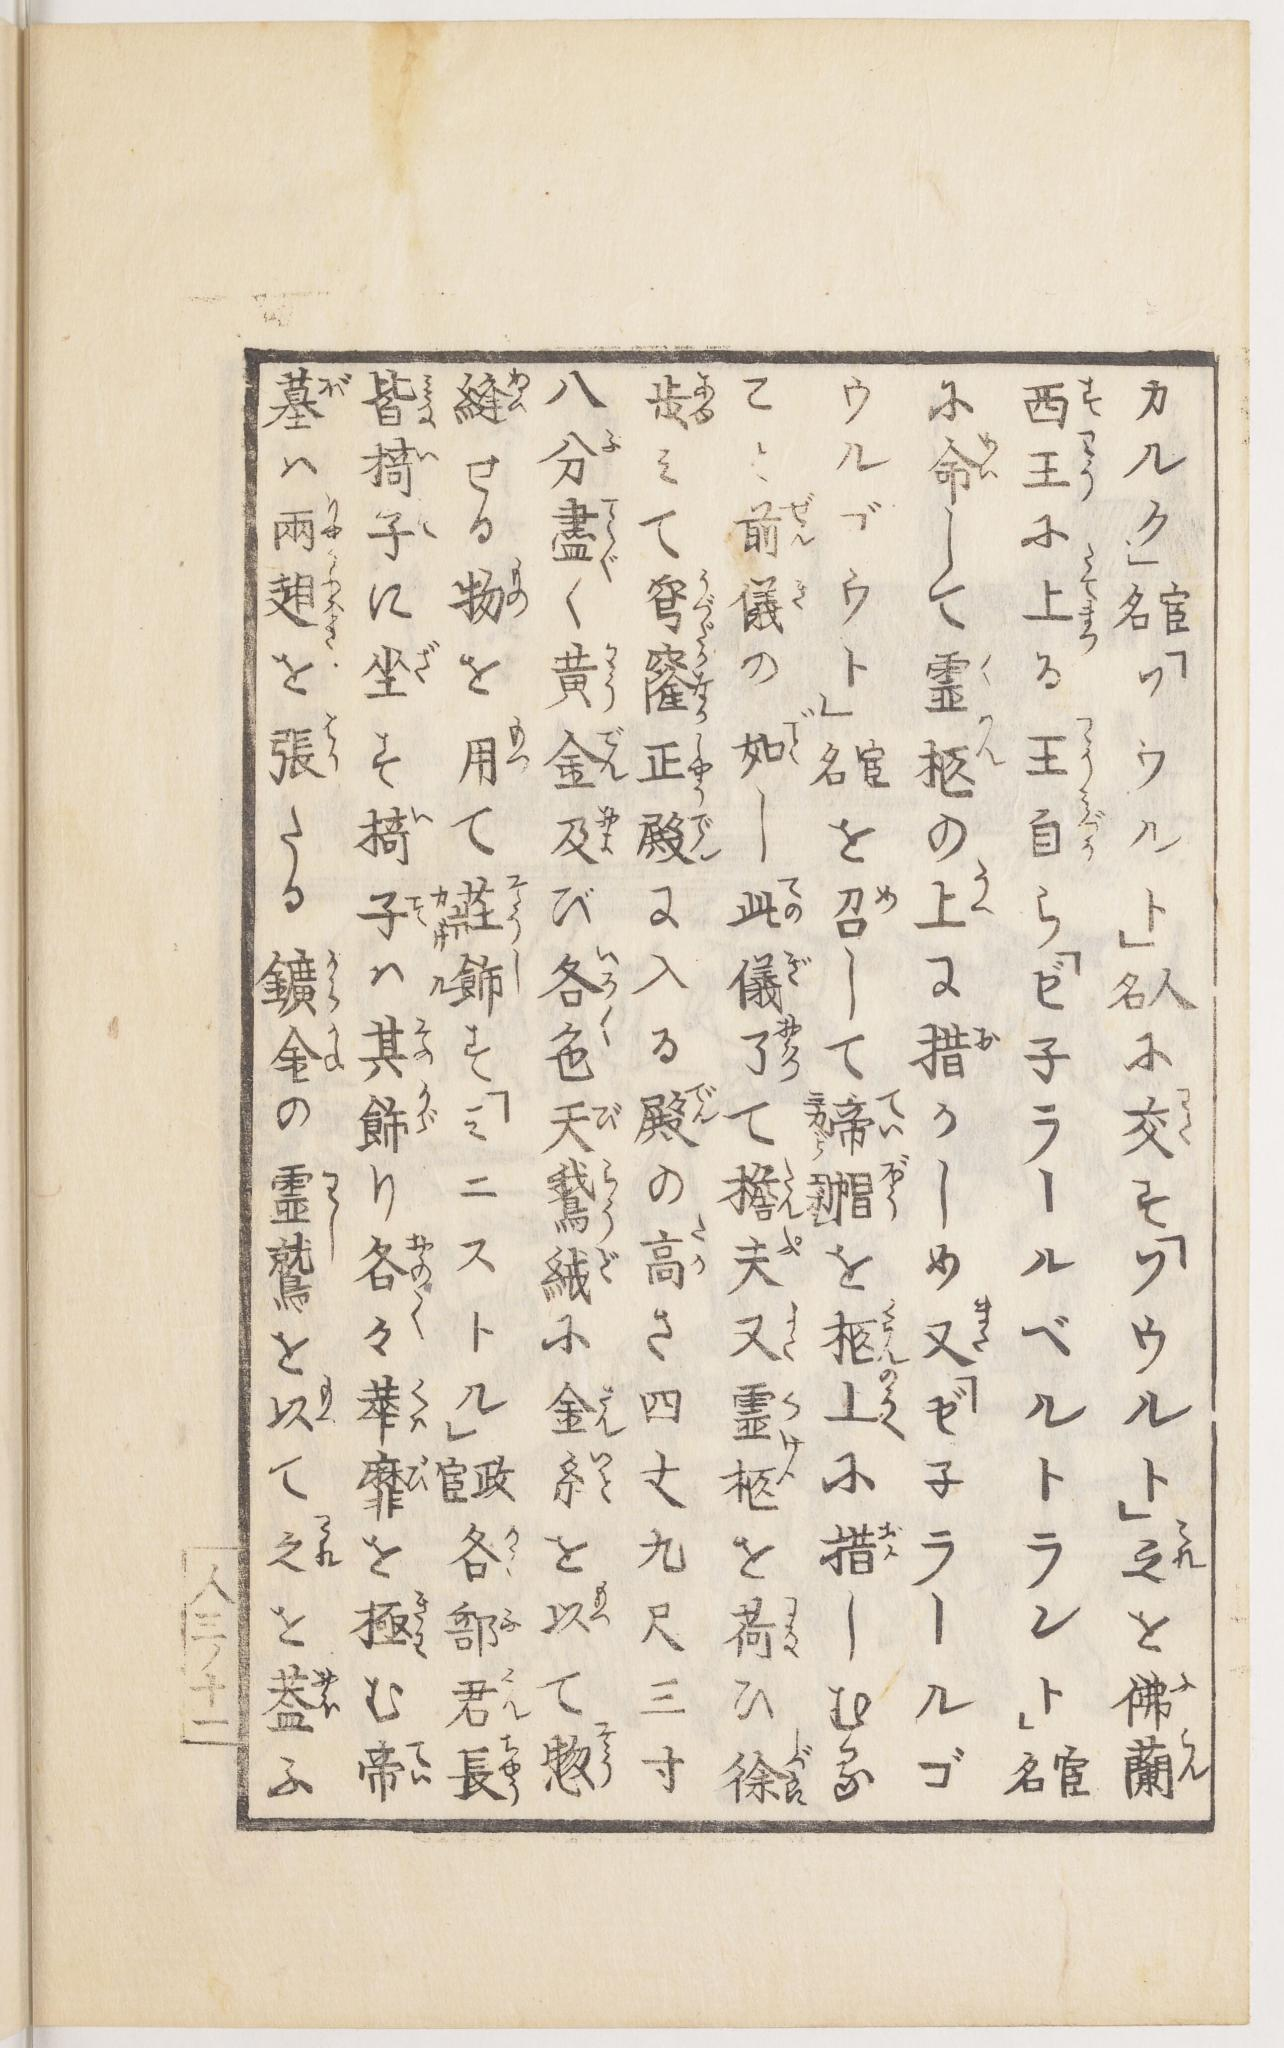MainZone-Character: (1012, 544, 1109, 657), (266, 546, 352, 654), (803, 1150, 914, 1232), (720, 1721, 817, 1813), (913, 710, 1007, 800), (260, 358, 358, 442), (713, 1430, 805, 1514), (1118, 1729, 1217, 1804), (354, 1078, 442, 1161), (534, 1156, 624, 1238), (630, 1076, 722, 1155), (546, 491, 627, 577), (448, 864, 534, 945), (726, 704, 820, 778), (447, 1732, 527, 1817), (1013, 424, 1102, 501), (732, 489, 830, 559), (259, 1656, 340, 1739), (1120, 1084, 1204, 1164), (907, 1013, 1001, 1084), (820, 1295, 914, 1366), (925, 858, 1006, 939), (441, 952, 533, 1023), (263, 705, 342, 788), (450, 556, 534, 633), (719, 1588, 805, 1664), (534, 1241, 630, 1307), (541, 1718, 620, 1800), (830, 1368, 913, 1445), (349, 1587, 432, 1664), (251, 945, 345, 1013), (645, 639, 716, 728), (454, 714, 534, 793), (544, 1007, 623, 1087), (355, 1369, 435, 1446), (354, 1733, 435, 1808), (544, 640, 627, 714), (1022, 790, 1108, 861), (722, 948, 820, 1010), (439, 1658, 528, 1726), (354, 640, 448, 704), (925, 1292, 999, 1374), (355, 1010, 438, 1082), (549, 726, 633, 797), (825, 1082, 914, 1149), (815, 1517, 901, 1585), (257, 1016, 345, 1082), (723, 1220, 800, 1295), (444, 1519, 522, 1593), (635, 804, 725, 868), (1121, 1520, 1207, 1587), (547, 800, 626, 872), (355, 797, 436, 867), (645, 1211, 710, 1297), (1109, 1668, 1201, 1729), (729, 569, 814, 634), (262, 1508, 346, 1573), (358, 1452, 433, 1525), (923, 639, 1000, 710), (638, 732, 716, 801), (723, 1297, 802, 1366), (538, 424, 626, 486), (265, 489, 354, 550), (828, 874, 904, 945), (357, 1291, 432, 1360), (728, 869, 808, 935), (450, 368, 533, 430), (645, 565, 720, 633), (917, 427, 997, 491), (442, 1598, 527, 1658), (728, 1375, 808, 1437), (540, 1093, 620, 1155), (1031, 716, 1102, 785), (362, 365, 436, 432), (641, 367, 723, 426), (547, 1380, 626, 1442), (364, 439, 444, 500), (544, 940, 618, 1006), (737, 1014, 805, 1082), (1019, 371, 1108, 423), (722, 1156, 799, 1215), (541, 1578, 614, 1640), (268, 1164, 340, 1224), (546, 1449, 620, 1505), (362, 881, 428, 945), (359, 1230, 430, 1288), (263, 1377, 336, 1431)
MainZone-Ruby: (781, 1723, 820, 1811), (1075, 546, 1101, 657), (877, 1297, 911, 1371), (686, 1072, 728, 1131), (1075, 790, 1106, 868), (1175, 1726, 1213, 1788), (598, 1158, 627, 1238), (1175, 1082, 1206, 1158), (497, 1733, 528, 1808), (598, 492, 624, 580), (874, 1372, 907, 1443), (785, 488, 821, 552), (689, 804, 725, 868), (785, 704, 822, 763), (408, 1081, 439, 1149), (496, 1659, 527, 1727), (402, 1732, 436, 1794), (774, 1014, 805, 1082), (1172, 1522, 1210, 1576), (970, 716, 1006, 775), (590, 797, 623, 861), (593, 726, 629, 782), (407, 1226, 438, 1289), (322, 555, 342, 654), (882, 1152, 911, 1215), (501, 711, 531, 775), (589, 1449, 621, 1505), (309, 1665, 342, 1721), (408, 1591, 433, 1661), (777, 871, 808, 927), (692, 639, 712, 729), (596, 1377, 623, 1442), (780, 1590, 805, 1658), (405, 1372, 430, 1440), (781, 942, 818, 988), (315, 1513, 342, 1576), (692, 568, 717, 634), (322, 708, 348, 775), (596, 1718, 618, 1792), (685, 1213, 710, 1278), (503, 556, 528, 621), (777, 1434, 806, 1489), (879, 1084, 905, 1145), (972, 856, 997, 920), (879, 1514, 907, 1570), (689, 371, 717, 427), (1077, 716, 1099, 787), (503, 872, 527, 939), (414, 639, 448, 685), (507, 365, 534, 423), (976, 426, 1001, 486), (1075, 429, 1096, 501), (969, 1297, 996, 1353), (780, 1294, 802, 1360), (404, 1286, 430, 1341), (601, 636, 620, 710), (318, 368, 358, 404), (317, 1020, 343, 1074), (411, 1016, 438, 1069), (593, 937, 618, 994), (692, 735, 714, 797), (322, 951, 346, 1008), (322, 488, 345, 549), (494, 1601, 528, 1640), (499, 1522, 525, 1570), (320, 1165, 340, 1226), (590, 1581, 617, 1627), (417, 376, 439, 430), (781, 1155, 799, 1223), (1169, 1665, 1201, 1702), (1080, 374, 1106, 418), (315, 1375, 337, 1428), (596, 1008, 623, 1051), (596, 1245, 624, 1285), (407, 1455, 433, 1496), (788, 572, 812, 618), (973, 1022, 1004, 1056), (596, 1100, 627, 1134), (407, 892, 433, 930), (777, 1224, 803, 1261), (876, 880, 901, 918), (509, 946, 530, 991), (781, 1387, 802, 1428), (410, 801, 433, 837), (601, 424, 624, 454), (417, 445, 444, 467), (979, 648, 993, 683)
